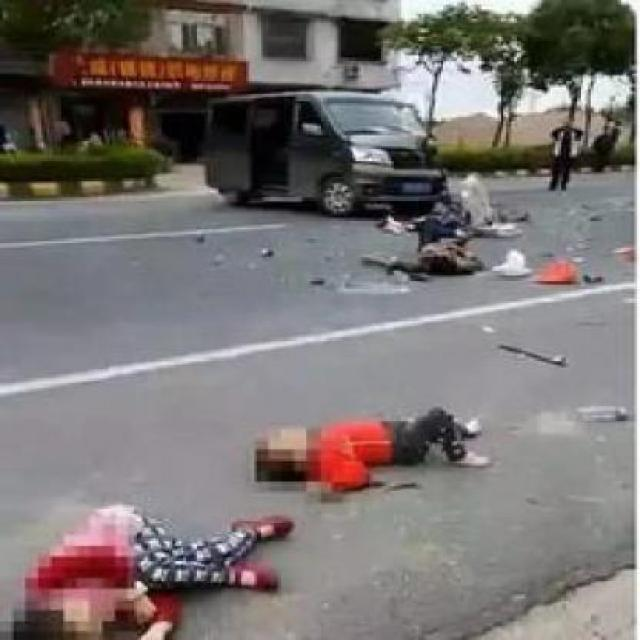fall: (235, 388, 490, 498)
